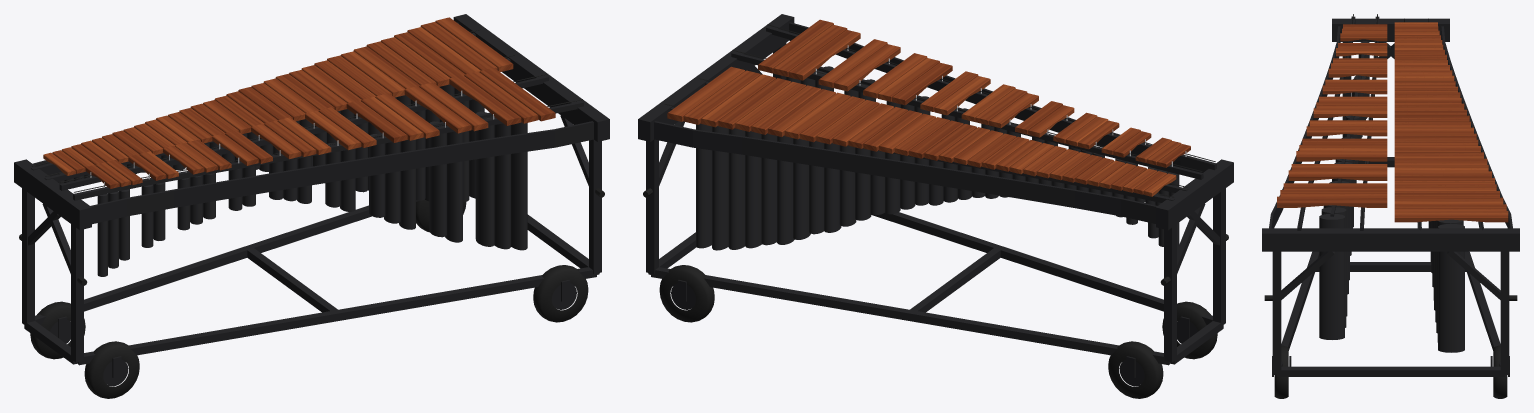
Rendered from marimba-4.6-synthetic-black.glb.
3 renders of one model, left to right at view 1: azimuth 30°, elevation 25°; view 2: azimuth 150°, elevation 25°; view 3: azimuth 270°, elevation 25°, orthographic. The views are drawn at different scales.
Visible parts, largest first — view 1: bars-synthetic, frame, resonators-black, artwork, rubber; view 2: frame, bars-synthetic, resonators-black, rubber; view 3: bars-synthetic, frame, resonators-black, rubber.
Boxes of the visible parts, x1,y1,x2,y2 form: bars-synthetic: (43,17,555,188); frame: (14,14,609,386); resonators-black: (58,84,527,276); artwork: (92,122,593,224); rubber: (19,29,604,398); frame: (638,14,1233,386); bars-synthetic: (667,19,1190,196); resonators-black: (696,66,1179,250); rubber: (643,24,1228,398); bars-synthetic: (1277,22,1508,222); frame: (1262,16,1519,376); resonators-black: (1319,41,1464,352); rubber: (1264,14,1517,398).
Size of the model in its own units: 2.38 by 0.982 by 1.21.
Materials: 6 (1 with a texture image).
